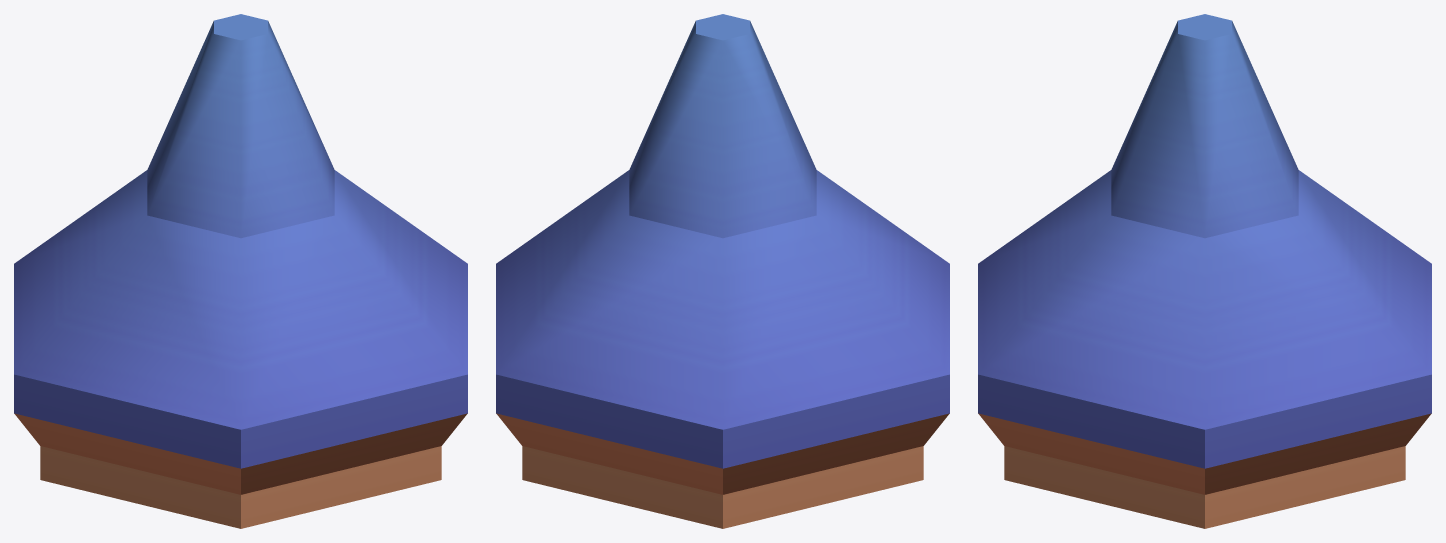
The model's file is tower-hexagon-roof.obj.
3 views of the same model, side by side, from view 1: azimuth 30°, elevation 25°; view 2: azimuth 150°, elevation 25°; view 3: azimuth 270°, elevation 25° (orthographic).
Parts seen in each view (by area): view 1: tower-hexagon-roof; view 2: tower-hexagon-roof; view 3: tower-hexagon-roof.
Part boxes in pixels (bbox=[...]): tower-hexagon-roof: bbox=[14, 14, 467, 528]; tower-hexagon-roof: bbox=[496, 14, 949, 528]; tower-hexagon-roof: bbox=[978, 14, 1431, 528].
Bounding box in the file's own units: 0.9763 × 0.83 × 0.8455.
1 material, 1 textured.
